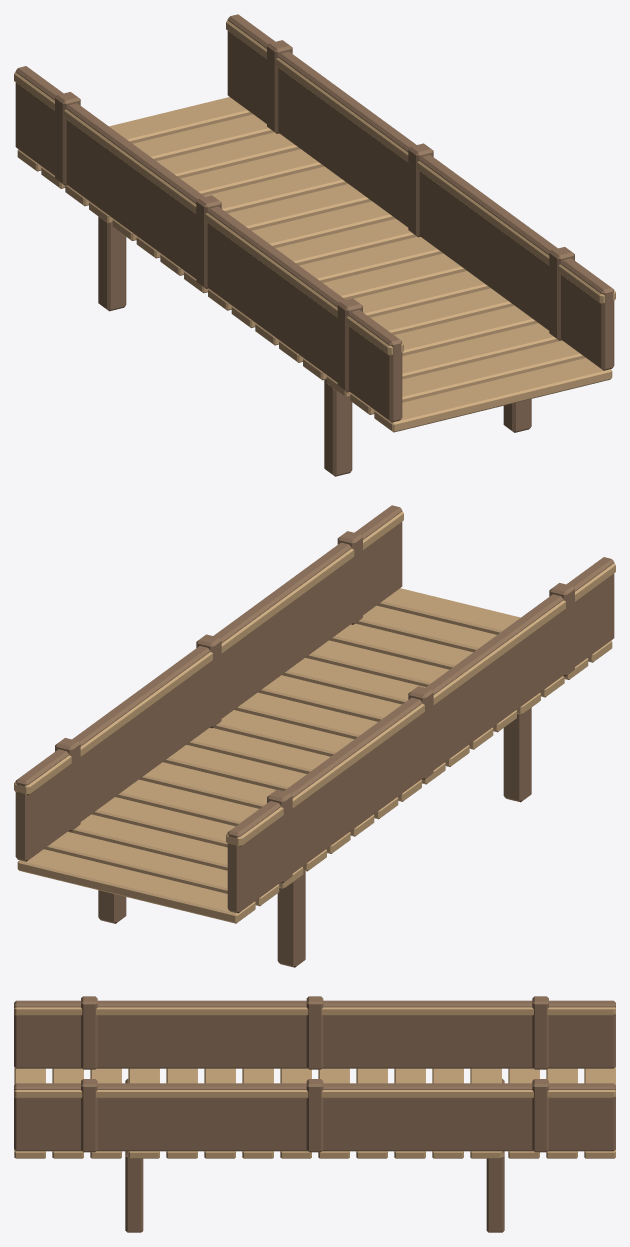
Rendered from timber-plank-bridge.glb.
3 renders of one model, top to bottom at view 1: azimuth 30°, elevation 25°; view 2: azimuth 150°, elevation 25°; view 3: azimuth 270°, elevation 25°, orthographic. The views are drawn at different scales.
Parts seen in each view (by area): view 1: timber-plank-bridge; view 2: timber-plank-bridge; view 3: timber-plank-bridge.
Boxes of the visible parts, bbox=[...] form: timber-plank-bridge: bbox=[14, 14, 615, 476]; timber-plank-bridge: bbox=[14, 505, 615, 967]; timber-plank-bridge: bbox=[14, 996, 615, 1232].
Size of the model in its own units: 2.82 by 2.27 by 8.
